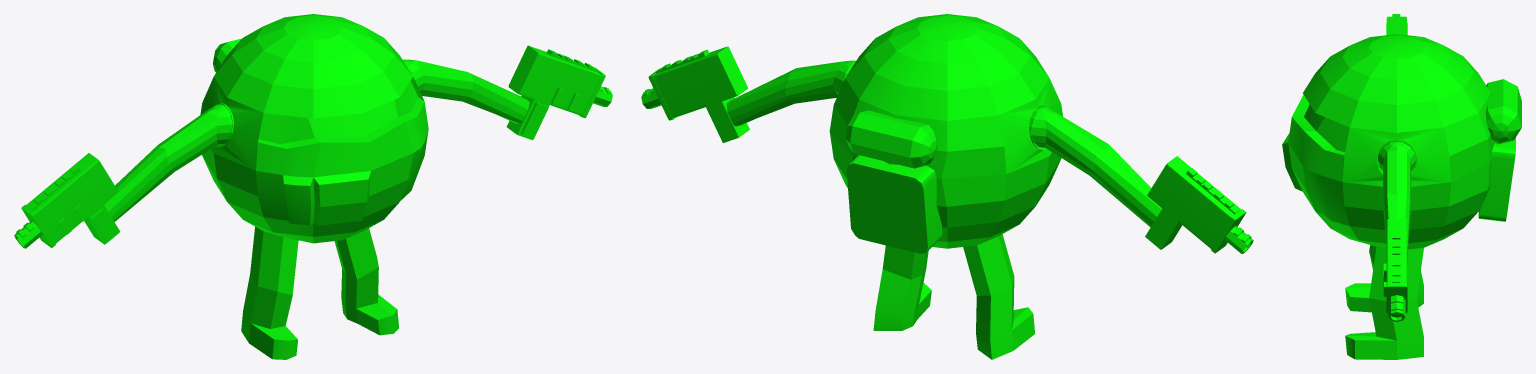
The model's file is mo_EnnemieRobot01.fbx.
3 views of the same model, side by side, from view 1: azimuth 30°, elevation 25°; view 2: azimuth 150°, elevation 25°; view 3: azimuth 270°, elevation 25° (orthographic). The views are drawn at different scales.
Visible parts, largest first — view 1: scn_Robot:Body1, scn_Robot:Arme1, scn_Robot:arm1; view 2: scn_Robot:Body1, scn_Robot:Arme1, scn_Robot:arm1, scn_Robot:BagBack_3, scn_Robot:bagback1; view 3: scn_Robot:Body1, scn_Robot:Arme1, scn_Robot:arm1, scn_Robot:bagback1, scn_Robot:BagBack_3.
Boxes of the visible parts, x1,y1,x2,y2 form: scn_Robot:Body1: (200, 14, 428, 359); scn_Robot:Arme1: (14, 45, 612, 248); scn_Robot:arm1: (103, 59, 529, 221); scn_Robot:Body1: (829, 14, 1062, 359); scn_Robot:Arme1: (641, 46, 1253, 253); scn_Robot:arm1: (726, 60, 1161, 227); scn_Robot:BagBack_3: (846, 155, 942, 253); scn_Robot:bagback1: (845, 110, 937, 168); scn_Robot:Body1: (1282, 34, 1495, 359); scn_Robot:Arme1: (1383, 14, 1407, 321); scn_Robot:arm1: (1378, 141, 1416, 263); scn_Robot:bagback1: (1485, 79, 1521, 144); scn_Robot:BagBack_3: (1478, 137, 1515, 221).
Size of the model in its own units: 669 by 326 by 247.
